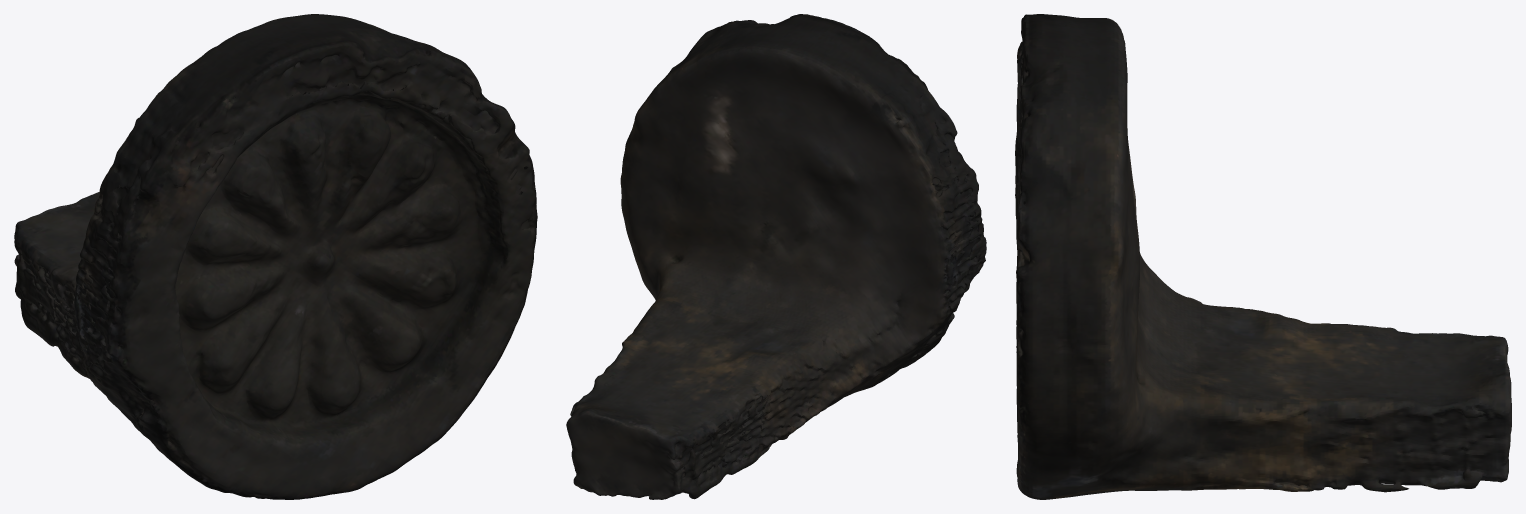
The model's file is giwa_3d.glb.
The picture shows the model from 3 angles, left to right: view 1: azimuth 30°, elevation 25°; view 2: azimuth 150°, elevation 25°; view 3: azimuth 270°, elevation 25°; orthographic projection. The views are drawn at different scales.
Parts seen in each view (by area): view 1: Mesh; view 2: Mesh; view 3: Mesh.
Boxes of the visible parts, x1,y1,x2,y2 form: Mesh: (14,14,537,499); Mesh: (566,14,986,499); Mesh: (1015,14,1511,499).
Size of the model in its own units: 0.0834 by 0.0845 by 0.0868.
